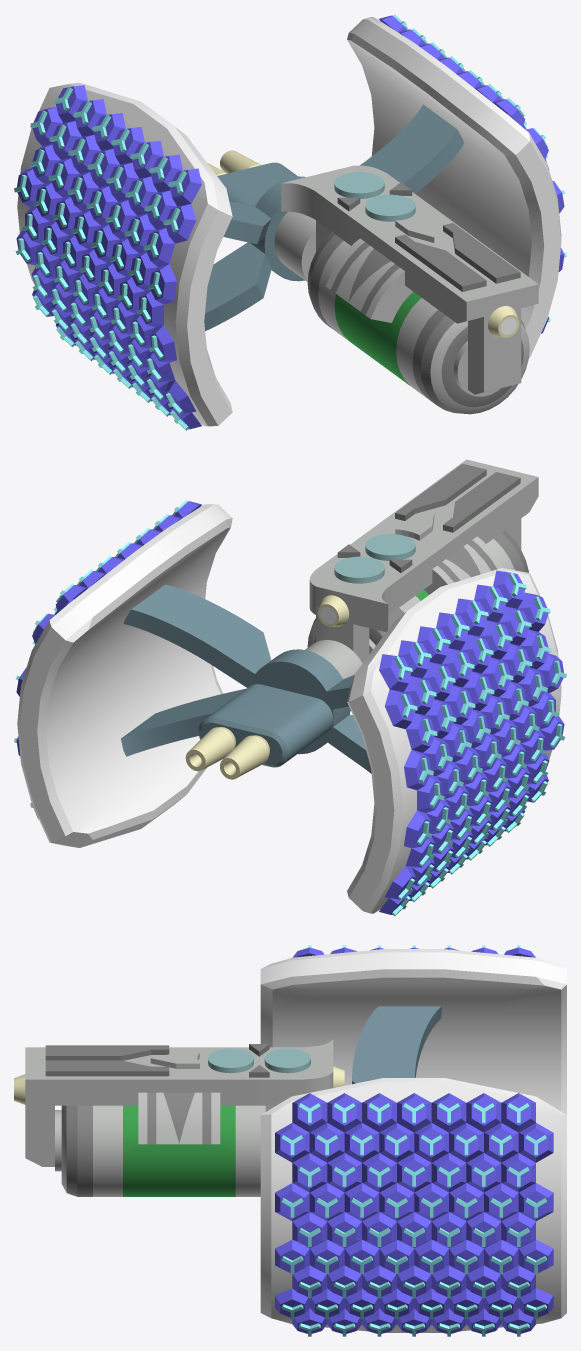
3 views of the same model, one above another, from view 1: azimuth 30°, elevation 25°; view 2: azimuth 150°, elevation 25°; view 3: azimuth 270°, elevation 25° (orthographic). The views are drawn at different scales.
Parts seen in each view (by area): view 1: Cylinder.000_6, Cylinder.001_7, Cylinder.003_9, Circle.005_5, Circle_0, Circle.003_3, Circle.004_4, Circle.001_1, Cylinder.002_8; view 2: Cylinder.000_6, Cylinder.003_9, Circle_0, Cylinder.001_7, Circle.005_5, Cylinder.002_8, Circle.004_4, Circle.003_3, Circle.002_2; view 3: Cylinder.000_6, Cylinder.001_7, Cylinder.003_9, Circle.005_5, Circle.004_4, Circle.003_3.
Boxes of the visible parts, x1,y1,x2,y2 form: Cylinder.000_6: [14, 14, 566, 430]; Cylinder.001_7: [274, 211, 529, 414]; Cylinder.003_9: [281, 165, 538, 394]; Circle.005_5: [395, 215, 520, 291]; Circle_0: [217, 162, 297, 206]; Circle.003_3: [365, 194, 415, 221]; Circle.004_4: [334, 172, 384, 198]; Circle.001_1: [488, 306, 519, 337]; Cylinder.002_8: [207, 150, 261, 175]; Cylinder.000_6: [14, 500, 566, 916]; Cylinder.003_9: [309, 459, 538, 663]; Circle_0: [198, 684, 333, 767]; Cylinder.001_7: [305, 530, 528, 710]; Circle.005_5: [395, 463, 520, 540]; Cylinder.002_8: [185, 727, 269, 779]; Circle.004_4: [334, 556, 384, 583]; Circle.003_3: [365, 534, 415, 560]; Circle.002_2: [317, 595, 349, 626]; Cylinder.000_6: [260, 945, 566, 1336]; Cylinder.001_7: [55, 1092, 275, 1196]; Cylinder.003_9: [25, 1040, 333, 1166]; Circle.005_5: [45, 1045, 199, 1076]; Circle.004_4: [264, 1048, 310, 1073]; Circle.003_3: [208, 1048, 253, 1073].
Bounding box in the file's own units: 2.37 × 1.55 × 3.01.
